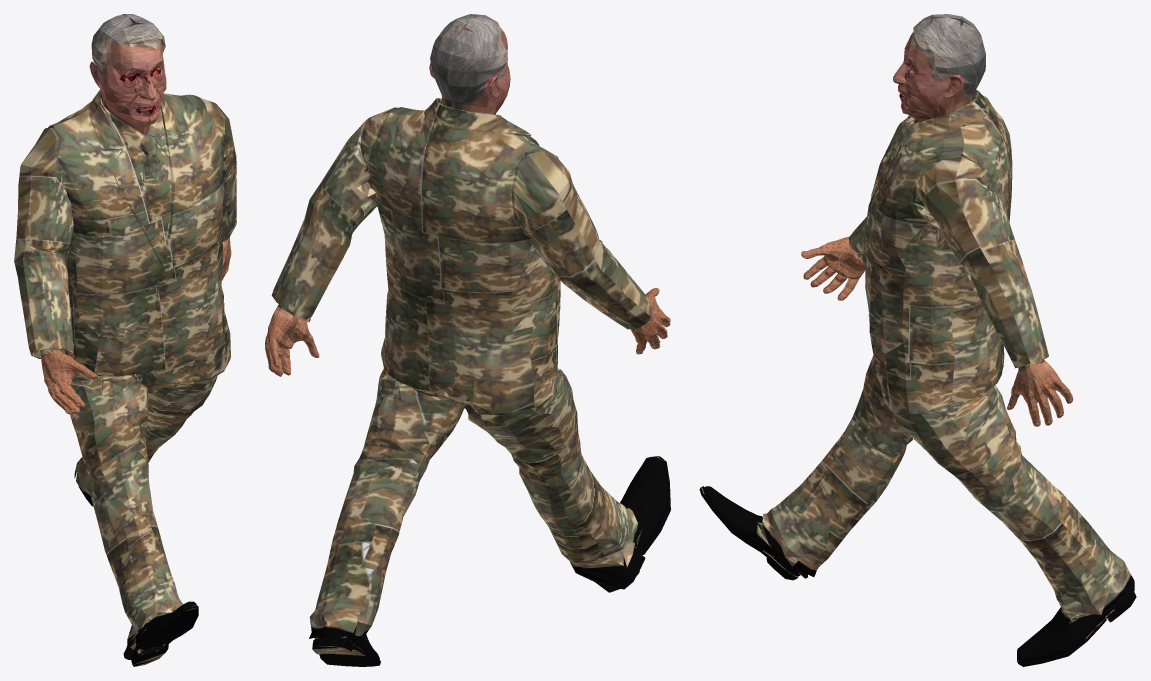
Rendered from zombie_000001.obj.
3 views of the same model, side by side, from view 1: azimuth 30°, elevation 25°; view 2: azimuth 150°, elevation 25°; view 3: azimuth 270°, elevation 25° (orthographic). The views are drawn at different scales.
Visible parts, largest first — view 1: Suit_coat_orig_9___De, objGeo_Hea_orig_9___D; view 2: Suit_coat_orig_9___De, objGeo_Hea_orig_9___D; view 3: Suit_coat_orig_9___De, objGeo_Hea_orig_9___D.
Part boxes in pixels (left/top/right/bottom): Suit_coat_orig_9___De: left=14, top=89, right=236, bottom=666; objGeo_Hea_orig_9___D: left=89, top=14, right=166, bottom=134; Suit_coat_orig_9___De: left=265, top=98, right=670, bottom=666; objGeo_Hea_orig_9___D: left=429, top=14, right=510, bottom=114; Suit_coat_orig_9___De: left=699, top=89, right=1136, bottom=666; objGeo_Hea_orig_9___D: left=893, top=14, right=985, bottom=122.
Size of the model in its own units: 0.8932 by 1.83 by 1.17.
